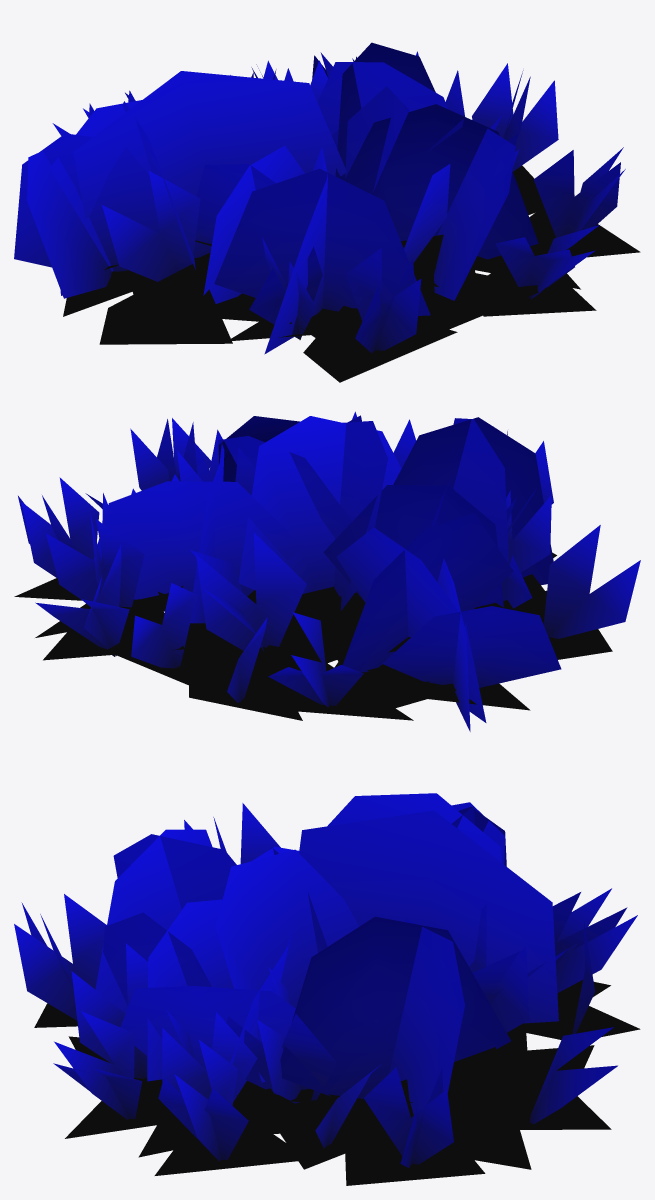
Rendered from SM_WildGrass_S_01.fbx.
The picture shows the model from 3 angles, top to bottom: view 1: azimuth 30°, elevation 25°; view 2: azimuth 150°, elevation 25°; view 3: azimuth 270°, elevation 25°; orthographic projection. The views are drawn at different scales.
Parts seen in each view (by area): view 1: SM_WildGrass_S_01; view 2: SM_WildGrass_S_01; view 3: SM_WildGrass_S_01.
Boxes of the visible parts, x1,y1,x2,y2 form: SM_WildGrass_S_01: (14,42,640,382); SM_WildGrass_S_01: (14,411,640,731); SM_WildGrass_S_01: (14,793,640,1185).
Bounding box in the file's own units: 147 × 133 × 62.09.
